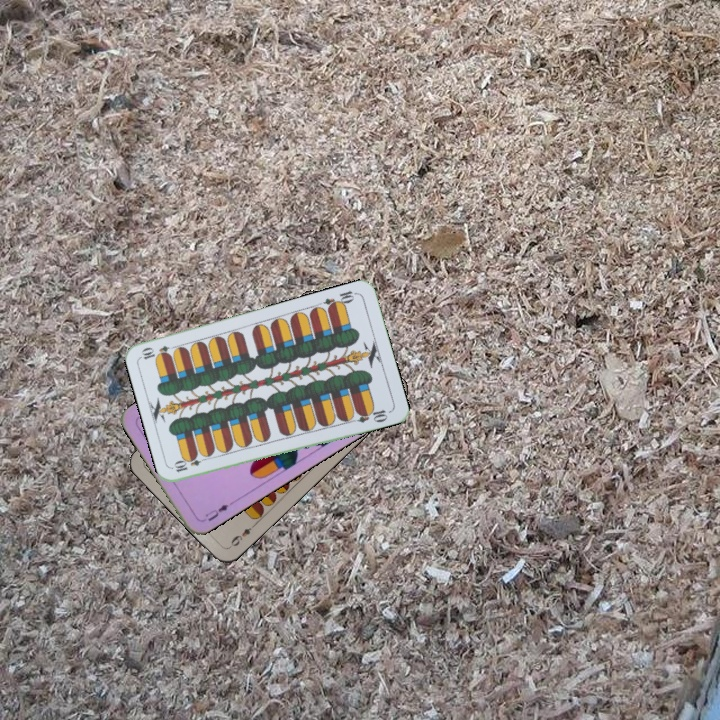E10: (320, 287, 360, 313), (170, 452, 210, 475)
E9: (225, 520, 258, 551)
EU: (201, 498, 235, 524)
